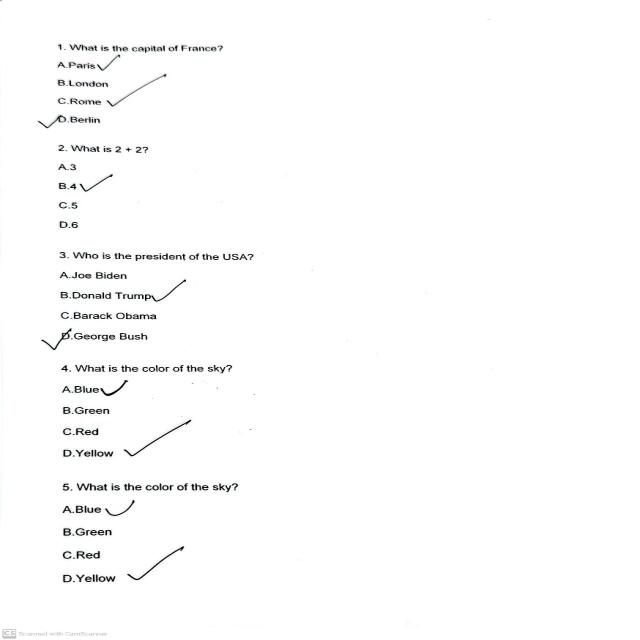Student_Ticked: (122, 420, 204, 456), (126, 546, 185, 581), (115, 79, 162, 105), (150, 280, 197, 302), (78, 174, 119, 193), (47, 329, 78, 351), (102, 501, 142, 518), (94, 51, 126, 72), (38, 111, 68, 131), (100, 381, 131, 398)
